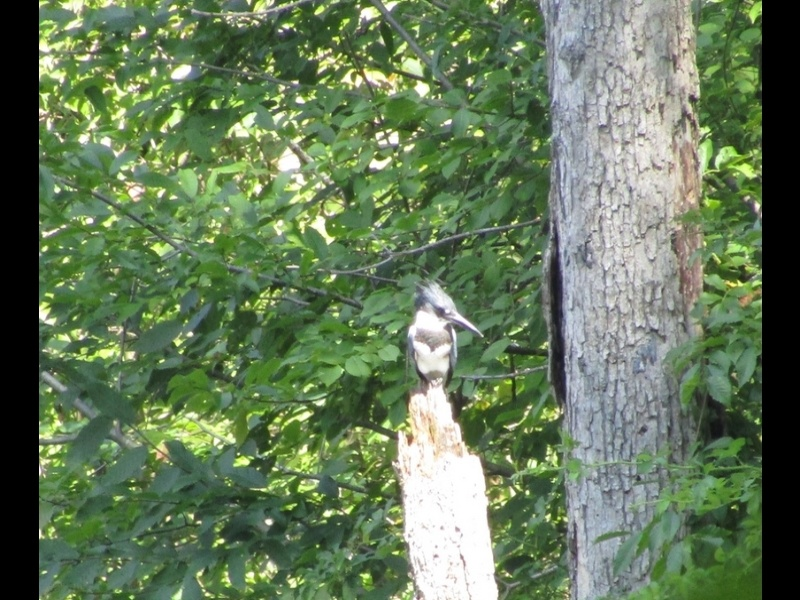kingfisher: (407, 278, 488, 403)
